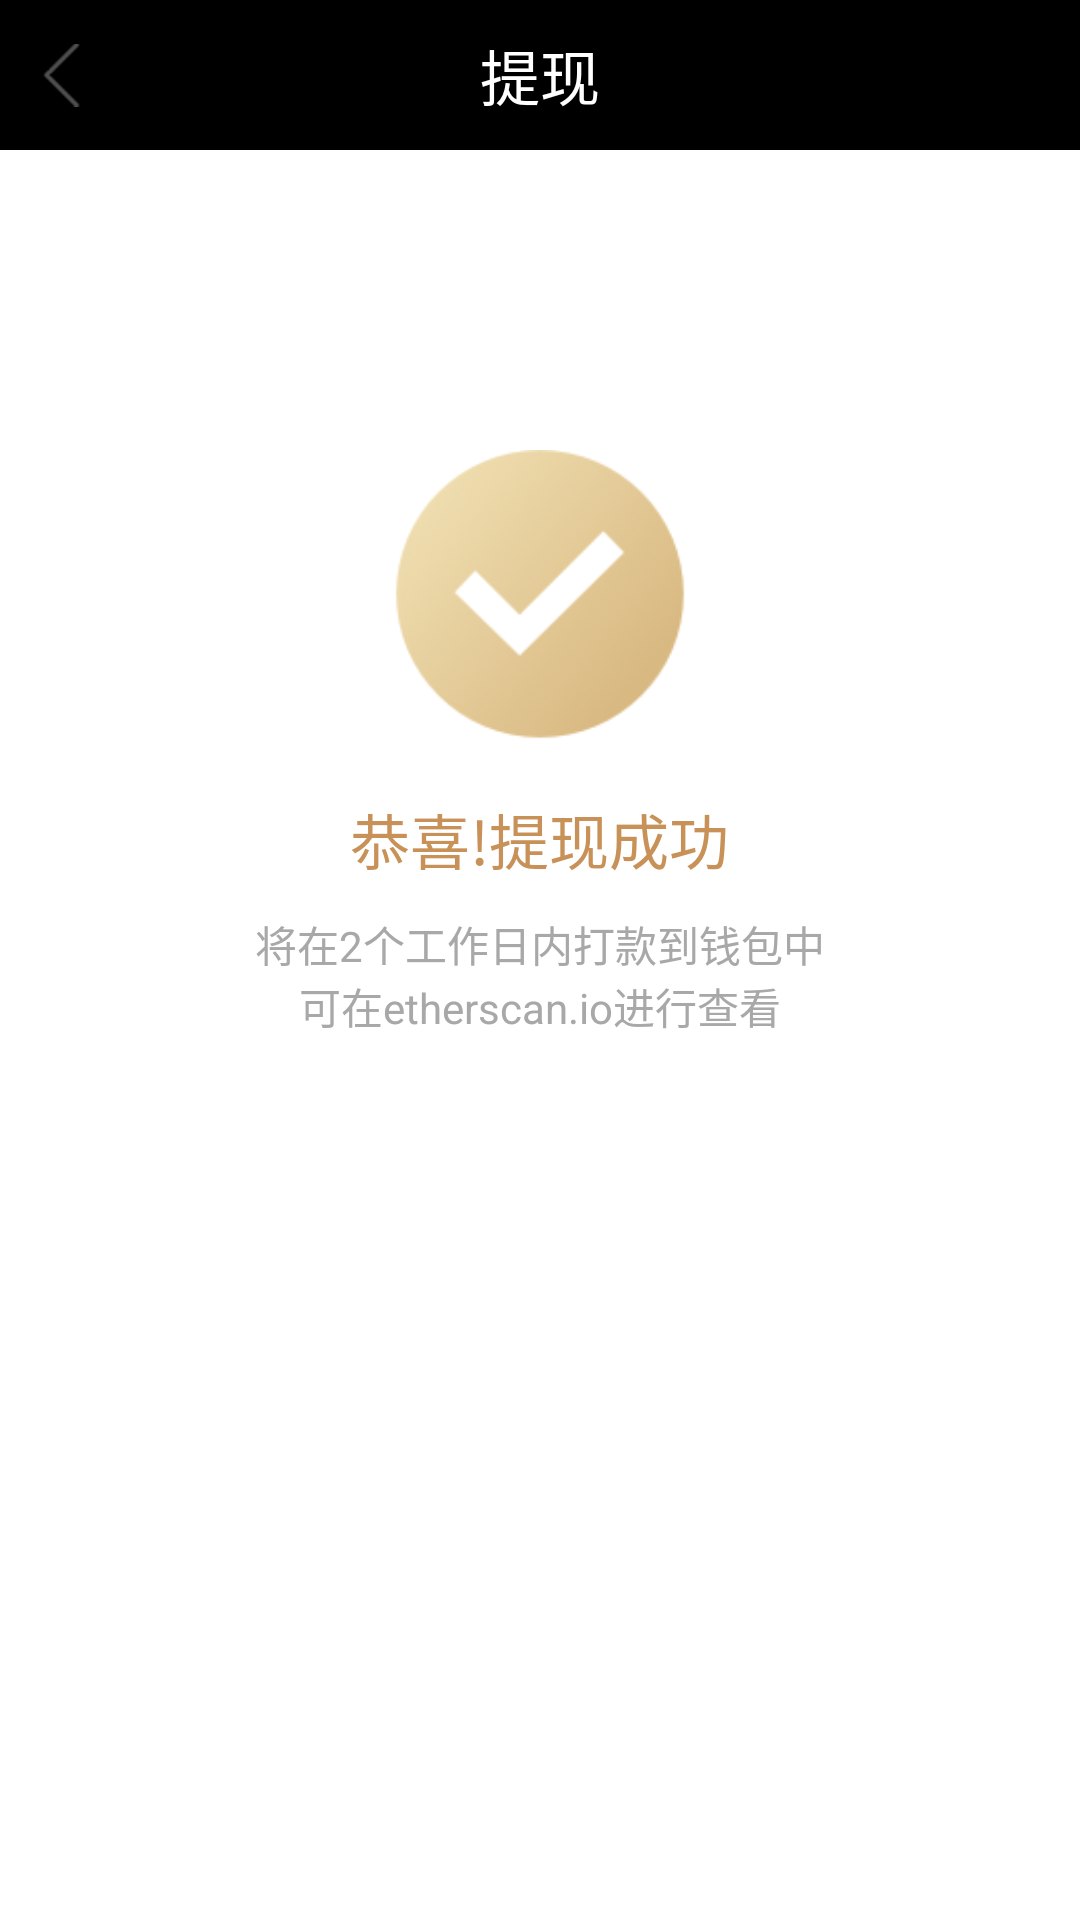

Icons on this 1080x1920 Android screen, each with its box as [x1, y1, x2, y2]:
back: [44, 44, 79, 107]
